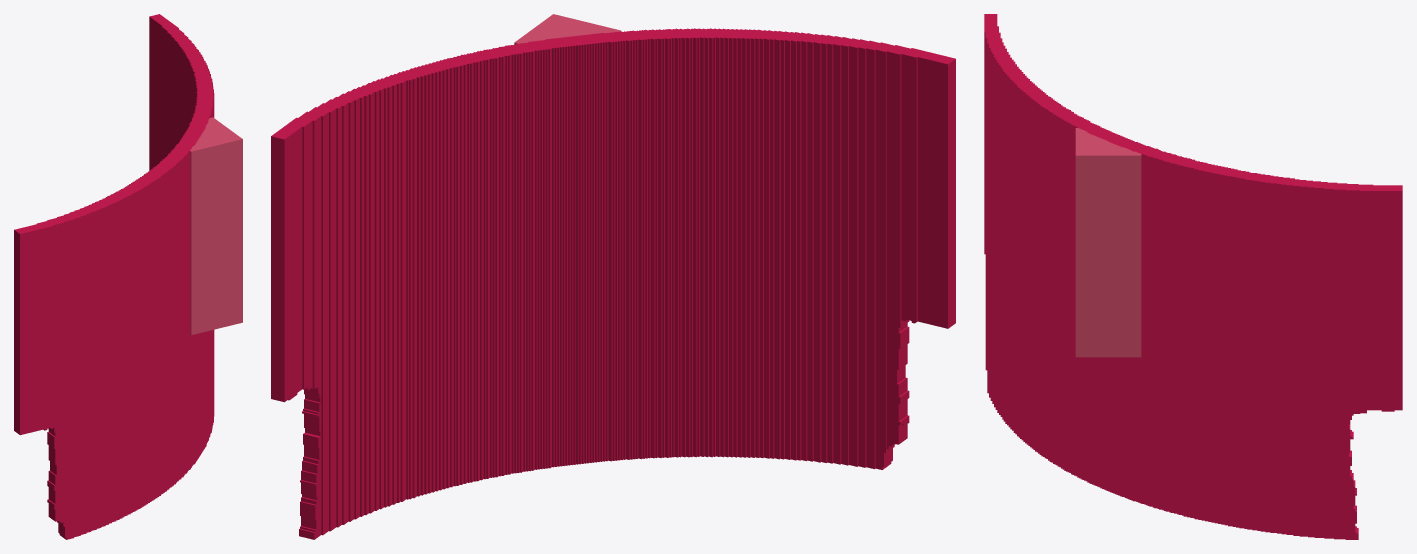
File: base_with_flag_elements-9.obj
The picture shows the model from 3 angles, left to right: view 1: azimuth 30°, elevation 25°; view 2: azimuth 150°, elevation 25°; view 3: azimuth 270°, elevation 25°; orthographic projection. The views are drawn at different scales.
Bounding box in the file's own units: 25.6 × 23.6 × 25.6.
Materials: 1 (1 with a texture image).
